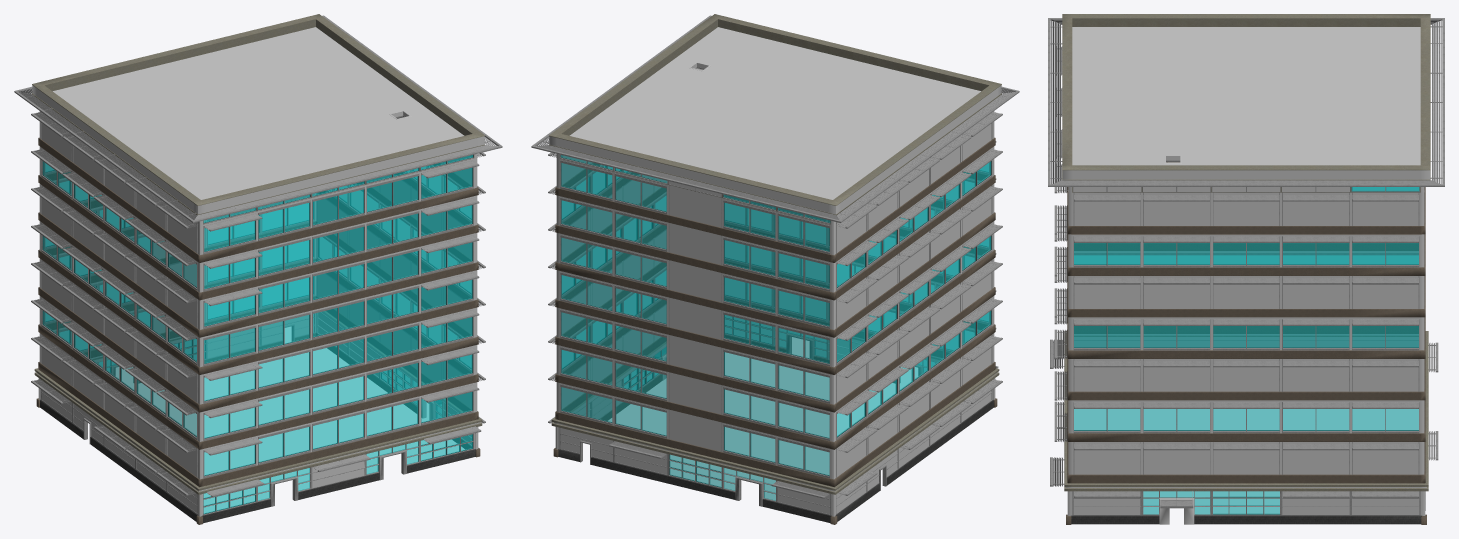
File: Building03.fbx
3 views of the same model, side by side, from view 1: azimuth 30°, elevation 25°; view 2: azimuth 150°, elevation 25°; view 3: azimuth 270°, elevation 25° (orthographic). The views are drawn at different scales.
Parts seen in each view (by area): view 1: SM_Building03; view 2: SM_Building03; view 3: SM_Building03.
Part boxes in pixels (x1,y1,x2,y2): SM_Building03: (14,14,502,524); SM_Building03: (531,14,1019,524); SM_Building03: (1048,14,1444,524).
Size of the model in its own units: 3516 by 3488 by 3516.
